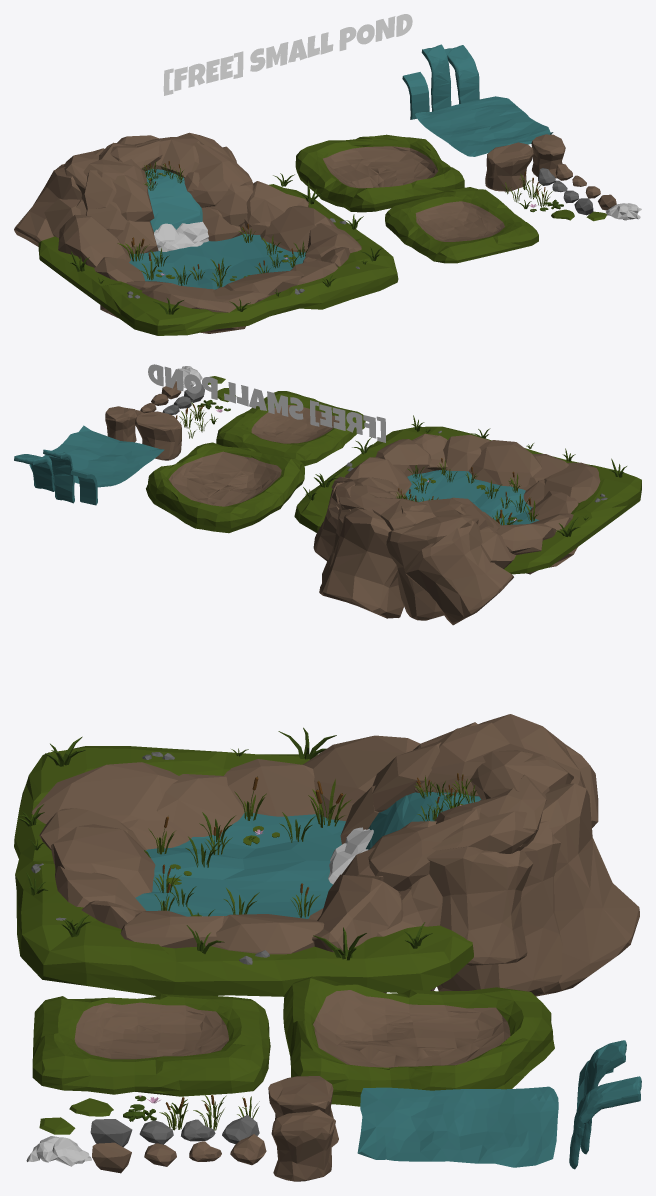
Rendered from free_lowpoly_small_pond_asset_pack.glb.
3 views of the same model, one above another, from view 1: azimuth 30°, elevation 25°; view 2: azimuth 150°, elevation 25°; view 3: azimuth 270°, elevation 25° (orthographic). The views are drawn at different scales.
Parts seen in each view (by area): view 1: Object_14, Object_8, Object_6, Object_13, Object_22, Object_21, Object_2, Object_18, Object_5, Object_16, Object_15, Object_4; view 2: Object_14, Object_6, Object_13, Object_8, Object_21, Object_22, Object_2, Object_18, Object_16, Object_15; view 3: Object_14, Object_8, Object_6, Object_13, Object_21, Object_22, Object_18, Object_16, Object_15, Object_9, Object_4, Object_5.
Part boxes in pixels (x1=…): Object_14: x1=14, y1=132, x2=361, y2=333; Object_8: x1=38, y1=161, x2=398, y2=335; Object_6: x1=295, y1=134, x2=538, y2=263; Object_13: x1=323, y1=134, x2=565, y2=241; Object_22: x1=129, y1=72, x2=429, y2=289; Object_21: x1=415, y1=44, x2=553, y2=156; Object_2: x1=163, y1=14, x2=412, y2=95; Object_18: x1=69, y1=164, x2=382, y2=314; Object_5: x1=154, y1=221, x2=208, y2=251; Object_16: x1=127, y1=168, x2=593, y2=298; Object_15: x1=555, y1=163, x2=616, y2=210; Object_4: x1=606, y1=203, x2=641, y2=220; Object_14: x1=313, y1=433, x2=600, y2=625; Object_6: x1=146, y1=391, x2=365, y2=533; Object_13: x1=105, y1=405, x2=339, y2=506; Object_8: x1=294, y1=426, x2=641, y2=574; Object_21: x1=14, y1=425, x2=164, y2=503; Object_22: x1=70, y1=470, x2=538, y2=525; Object_2: x1=148, y1=364, x2=385, y2=442; Object_18: x1=303, y1=415, x2=626, y2=536; Object_16: x1=157, y1=384, x2=607, y2=502; Object_15: x1=136, y1=381, x2=181, y2=415; Object_14: x1=31, y1=714, x2=639, y2=996; Object_8: x1=14, y1=746, x2=476, y2=996; Object_6: x1=32, y1=976, x2=554, y2=1106; Object_13: x1=74, y1=990, x2=510, y2=1181; Object_21: x1=357, y1=1040, x2=641, y2=1169; Object_22: x1=135, y1=792, x2=613, y2=1110; Object_18: x1=17, y1=727, x2=465, y2=960; Object_16: x1=31, y1=752, x2=269, y2=1147; Object_15: x1=92, y1=1134, x2=266, y2=1173; Object_9: x1=39, y1=1094, x2=259, y2=1134; Object_4: x1=26, y1=1136, x2=91, y2=1166; Object_5: x1=328, y1=827, x2=373, y2=884.
Size of the model in its own units: 57.95 by 21.58 by 36.43.
